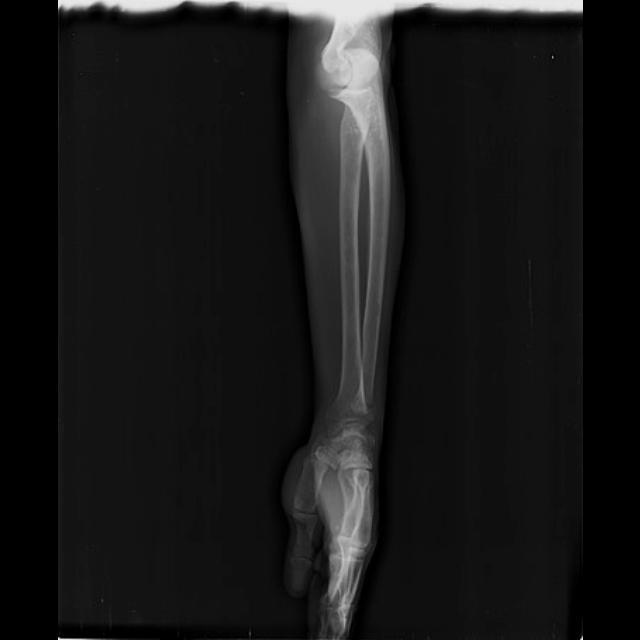Fracture: (347, 392, 377, 416)
